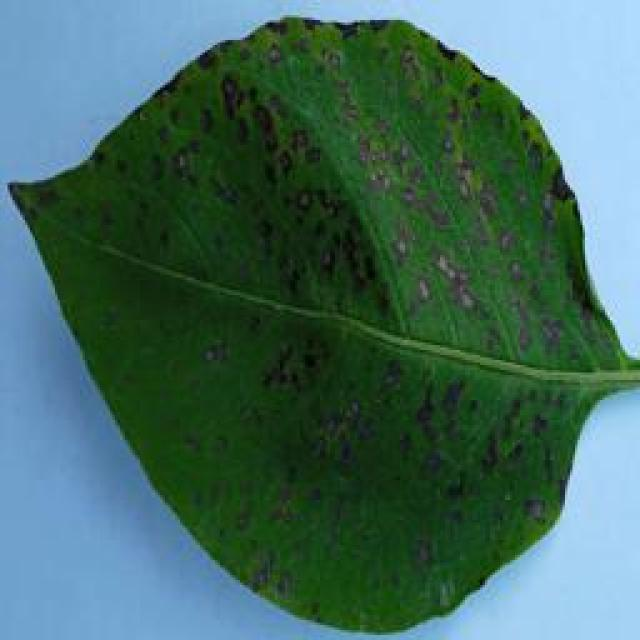Potato_Early_Blight: (4, 11, 630, 638)
